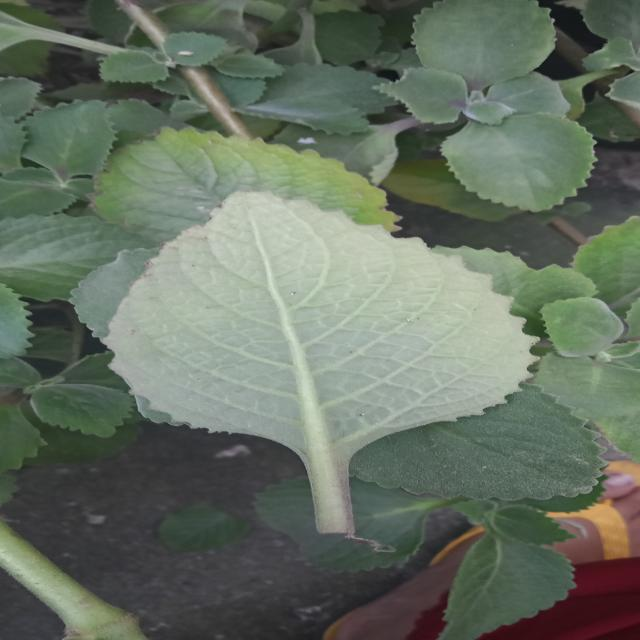Oregano: (90, 162, 575, 490)
